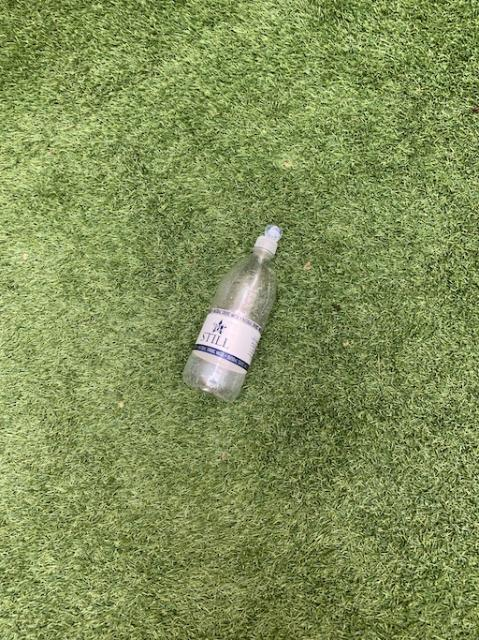plastic: (183, 225, 280, 400)
